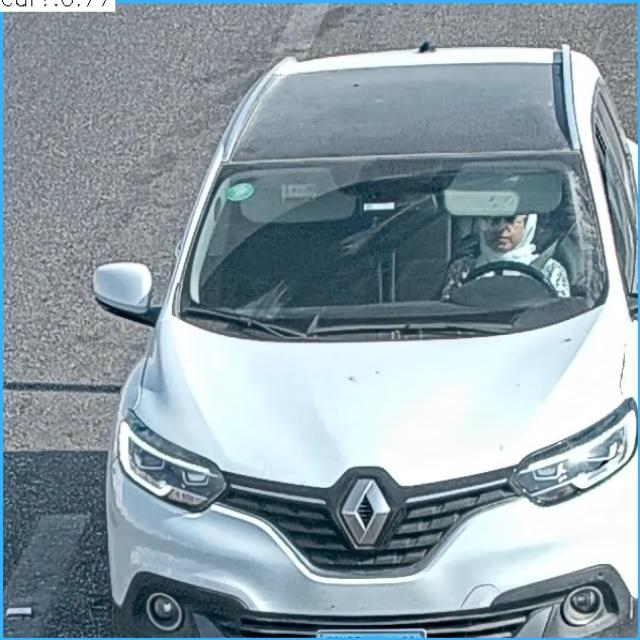windshield: (184, 153, 600, 328)
